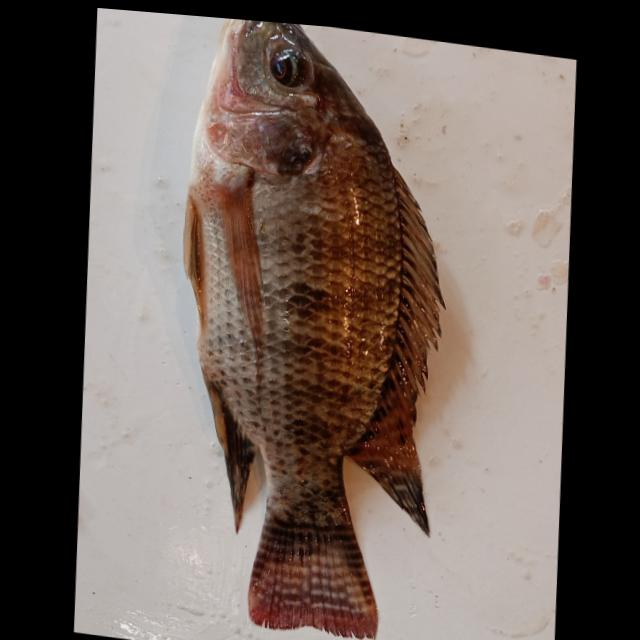Tilapia: (159, 13, 460, 640)
